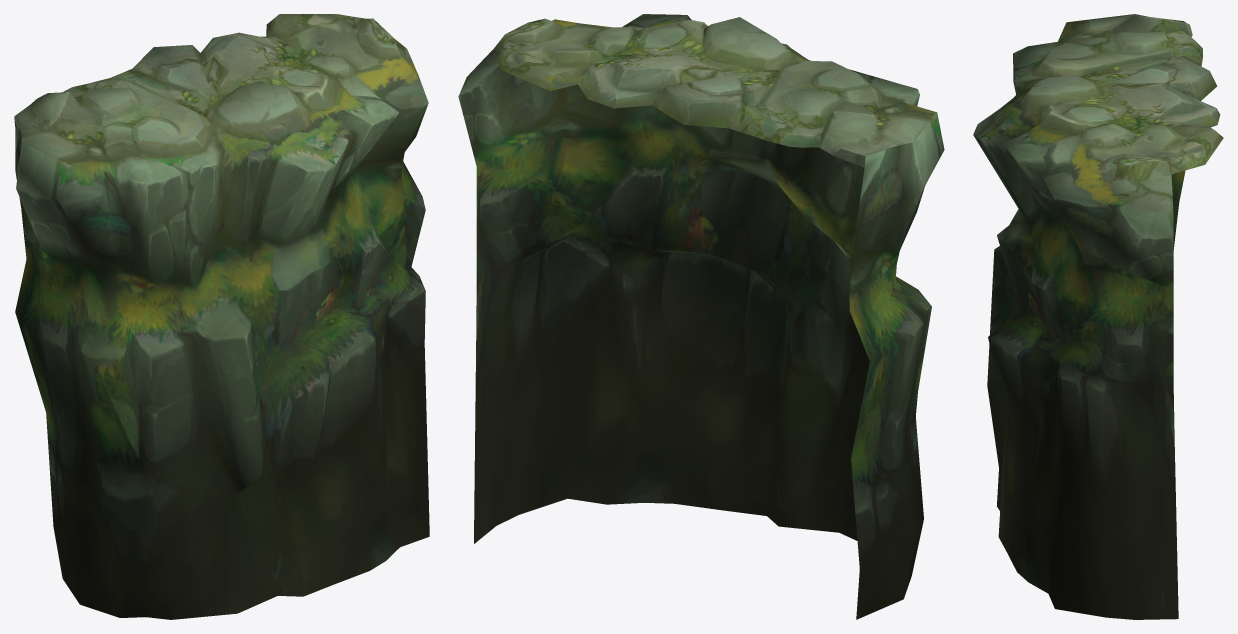
The model's file is shitoubaobian.FBX.
The picture shows the model from 3 angles, left to right: view 1: azimuth 30°, elevation 25°; view 2: azimuth 150°, elevation 25°; view 3: azimuth 270°, elevation 25°; orthographic projection. The views are drawn at different scales.
Visible parts, largest first — view 1: shitoubaobian; view 2: shitoubaobian; view 3: shitoubaobian.
Boxes of the visible parts, <box> form: shitoubaobian: <box>14,14,429,619</box>; shitoubaobian: <box>458,14,944,619</box>; shitoubaobian: <box>973,14,1223,619</box>.
Bounding box in the file's own units: 612 × 683 × 343.
